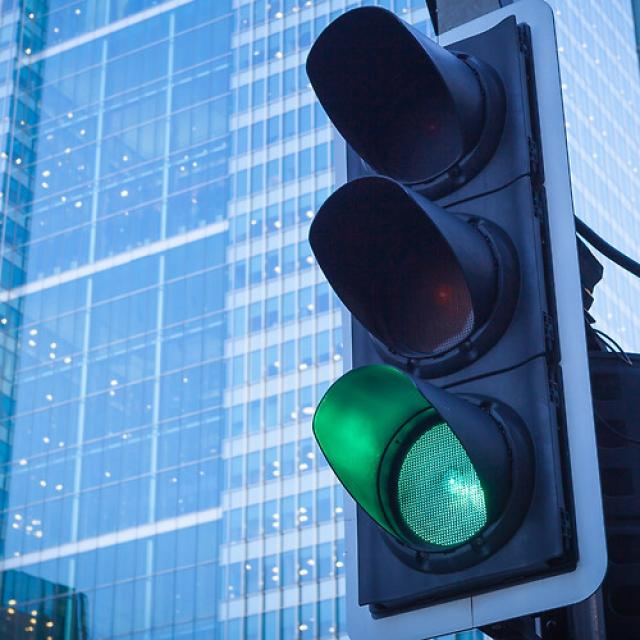Green_light: (312, 24, 564, 598)
